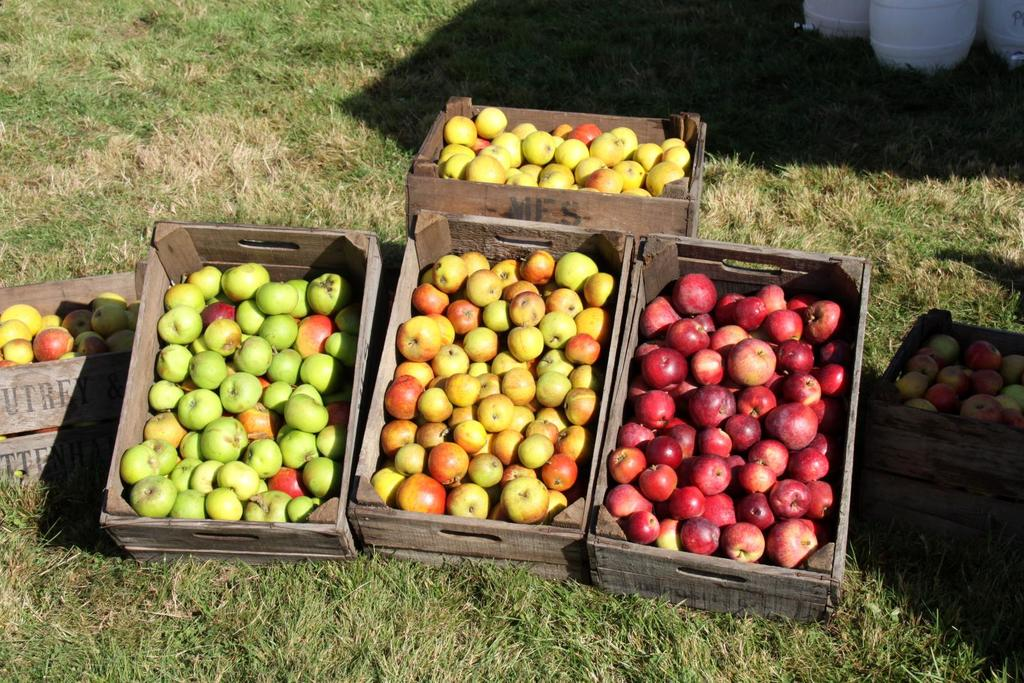Apple: (600, 270, 847, 567), (365, 252, 617, 527), (117, 265, 356, 523), (438, 106, 692, 195), (0, 299, 142, 434), (897, 329, 1023, 433), (0, 289, 141, 363), (723, 520, 765, 562)
